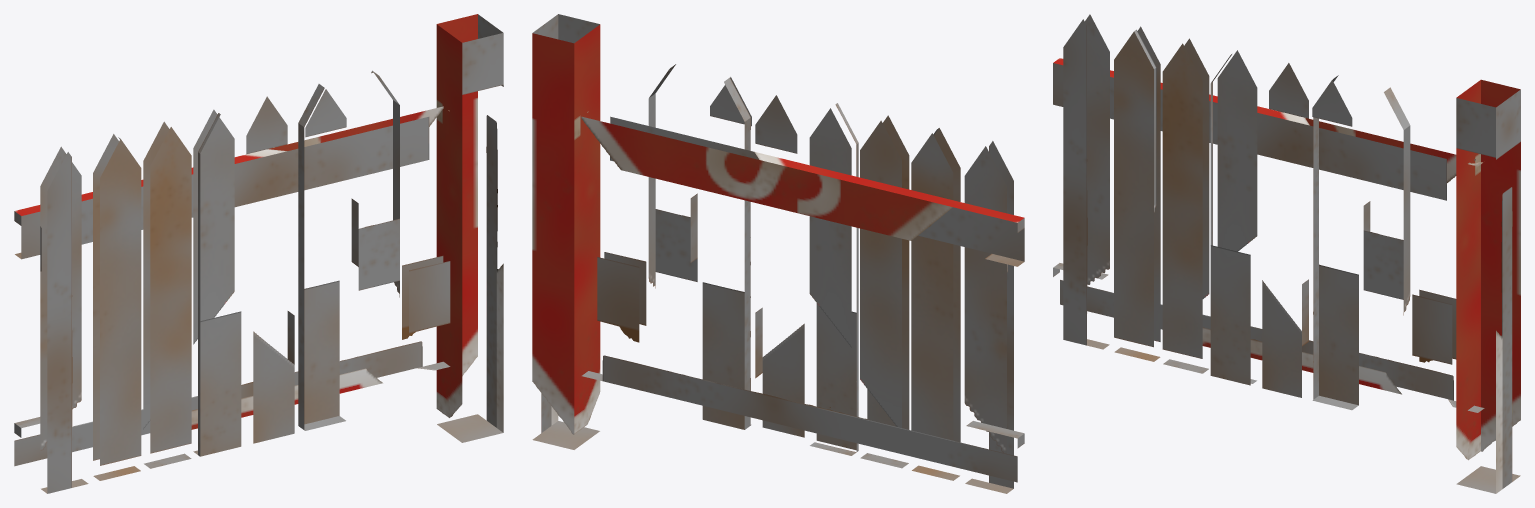
Rendered from fence_001_right.fbx.
3 renders of one model, left to right at view 1: azimuth 30°, elevation 25°; view 2: azimuth 150°, elevation 25°; view 3: azimuth 330°, elevation 25°, orthographic. The views are drawn at different scales.
Visible parts, largest first — view 1: Cube; view 2: Cube; view 3: Cube.
Part boxes in pixels (x1,y1,x2,y2): Cube: (14, 14, 503, 493); Cube: (532, 14, 1024, 493); Cube: (1053, 14, 1520, 493).
Size of the model in its own units: 3.39 by 2.76 by 0.3209.
